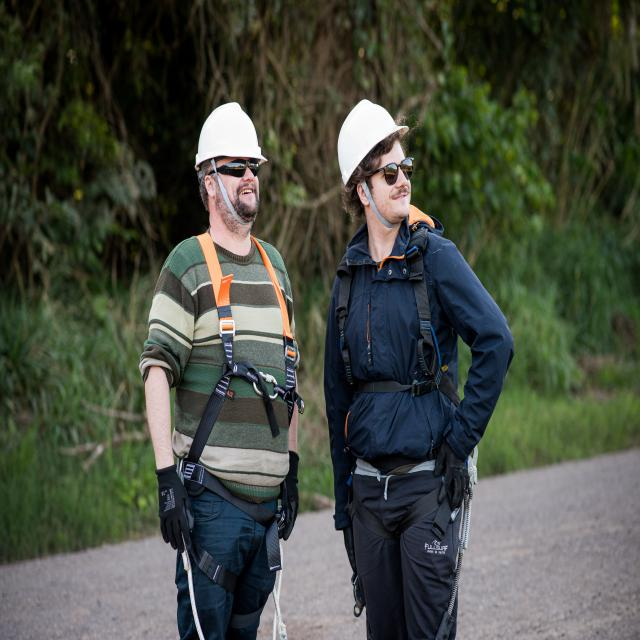capacete: (336, 96, 411, 188), (194, 99, 268, 176)
corda de vida: (175, 224, 308, 601), (334, 219, 483, 552)
luva: (152, 460, 197, 557), (434, 431, 472, 514), (277, 447, 302, 544)
